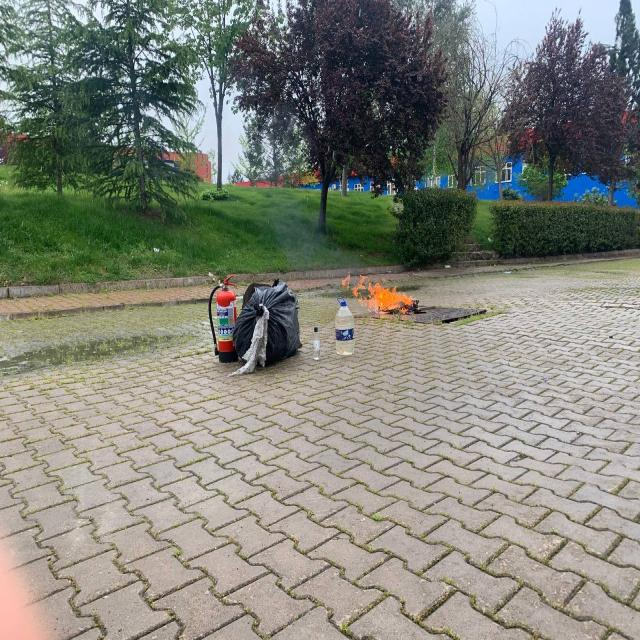fire: (344, 265, 428, 316)
